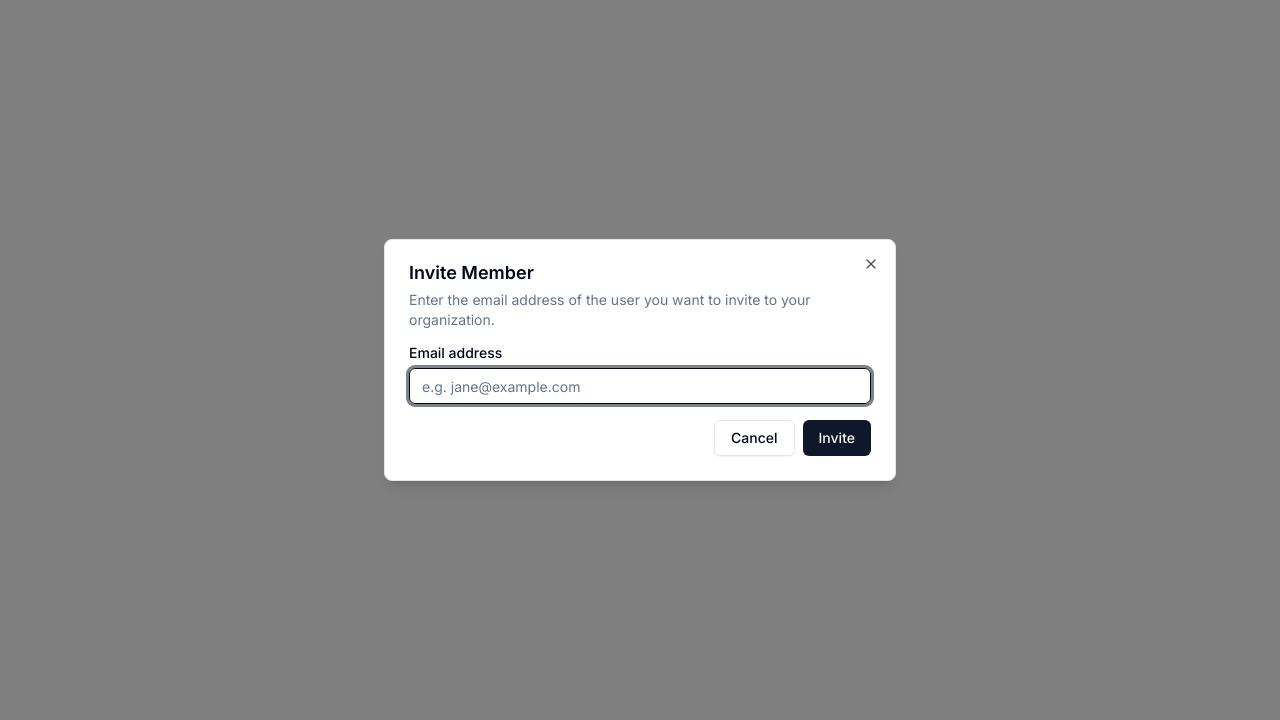
it: InviteMemberDialog › should validate invalid email format
In the field labelled "Email address": [640, 386] box [409, 368, 871, 404], type "not-an-email"
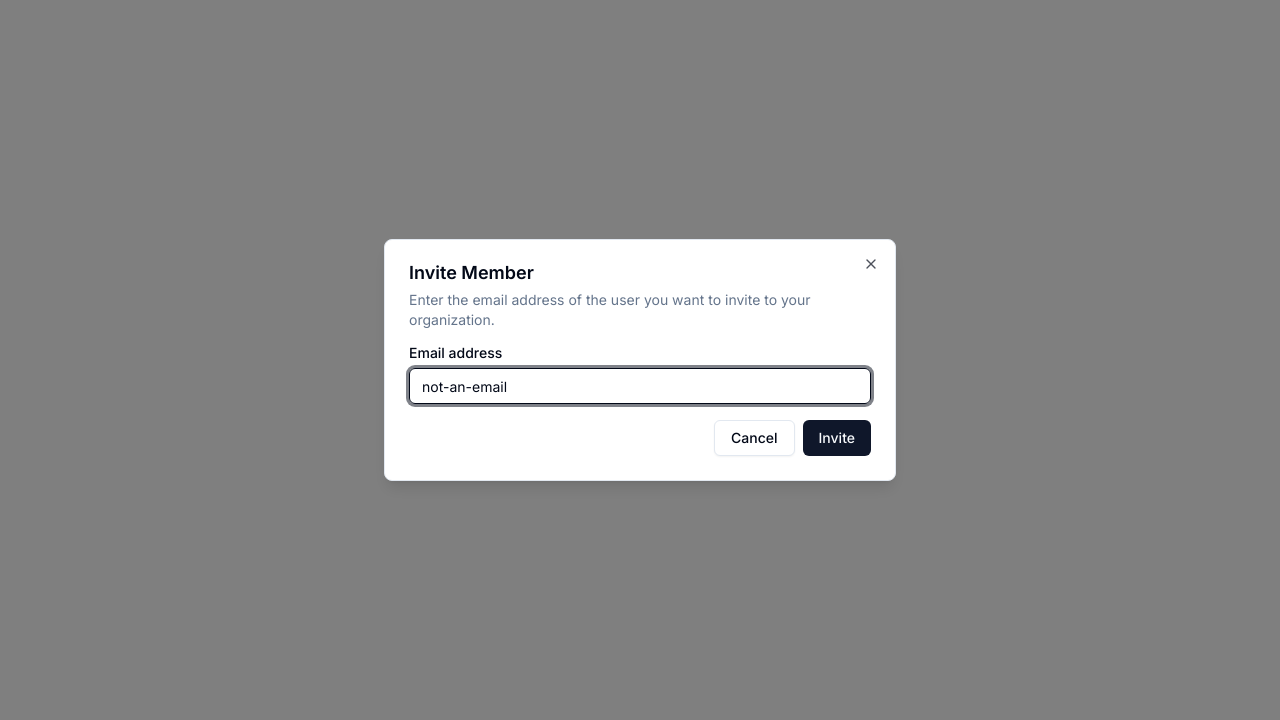
Click the button "Invite": [837, 438] box [802, 420, 871, 456]
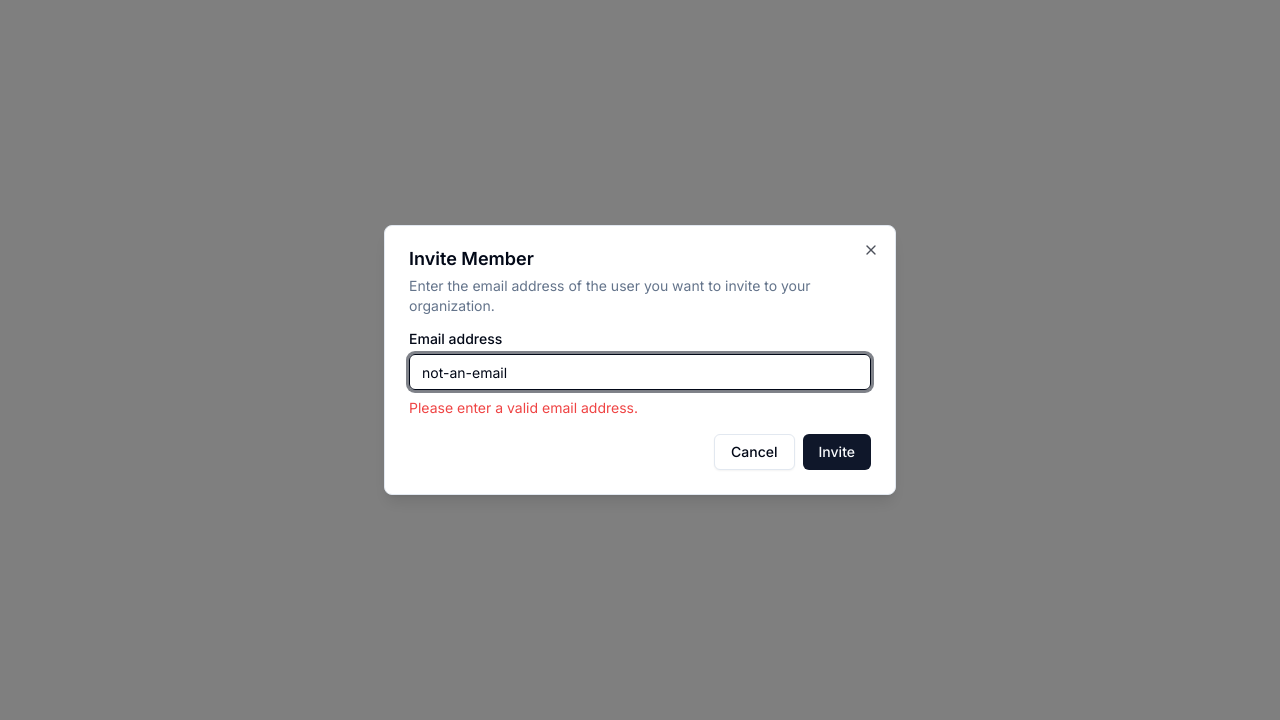
expect the text "Please enter a valid email address." is shown: met, box [409, 399, 638, 416]
